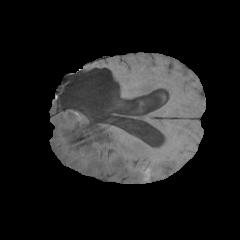glioma: (50, 68, 140, 178)
